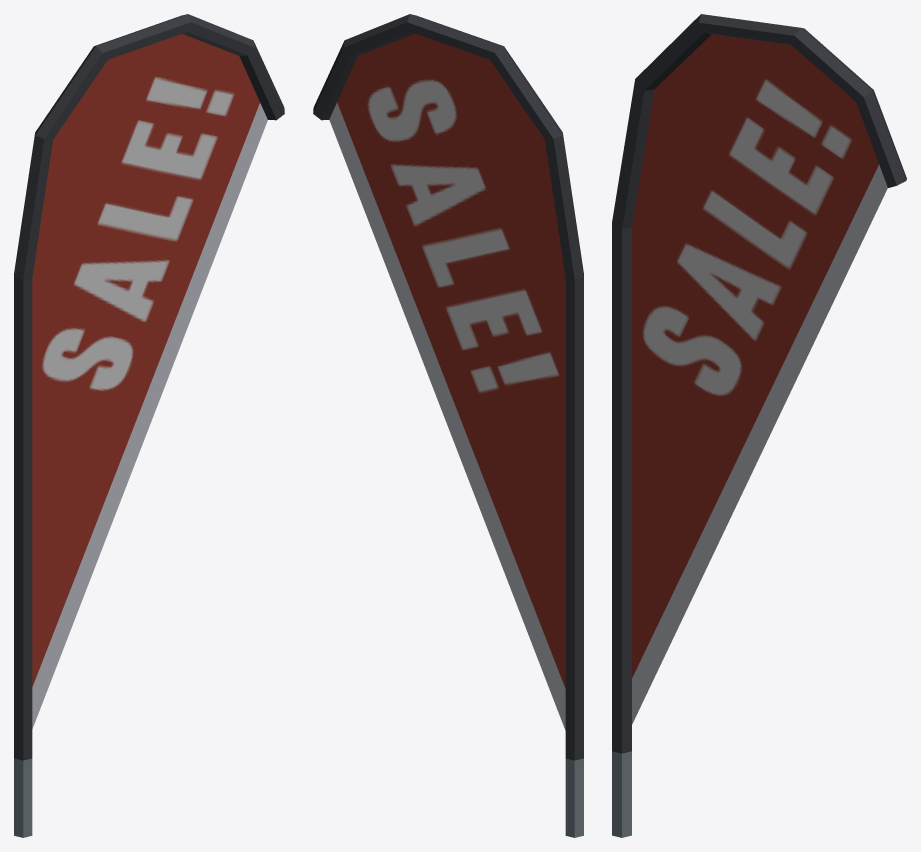
File: SM_Sign_Flag_01_Pivot_01.obj
3 renders of one model, left to right at view 1: azimuth 30°, elevation 25°; view 2: azimuth 150°, elevation 25°; view 3: azimuth 330°, elevation 25°, orthographic. The views are drawn at different scales.
Visible parts, largest first — view 1: SM_Sign_Flag_01_Pivot_01_0; view 2: SM_Sign_Flag_01_Pivot_01_0; view 3: SM_Sign_Flag_01_Pivot_01_0.
Part boxes in pixels (left/top/right/bottom): SM_Sign_Flag_01_Pivot_01_0: left=14, top=14, right=284, bottom=837; SM_Sign_Flag_01_Pivot_01_0: left=313, top=14, right=583, bottom=837; SM_Sign_Flag_01_Pivot_01_0: left=612, top=14, right=906, bottom=837.
Size of the model in its own units: 0.6549 by 1.8 by 0.0385.
Materials: 1 (1 with a texture image).
